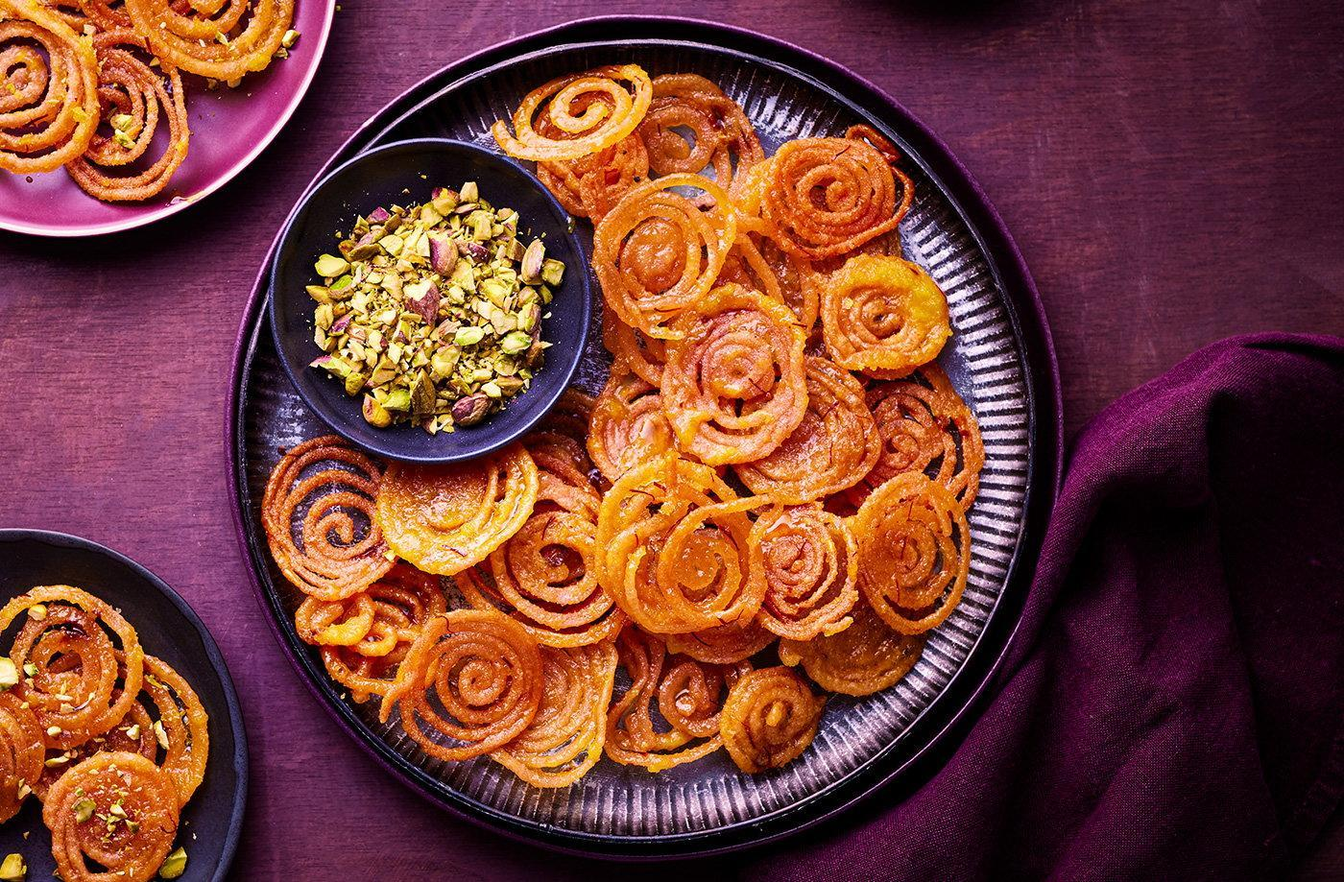jalebi: (487, 61, 960, 760), (12, 587, 211, 873), (0, 4, 264, 184)
